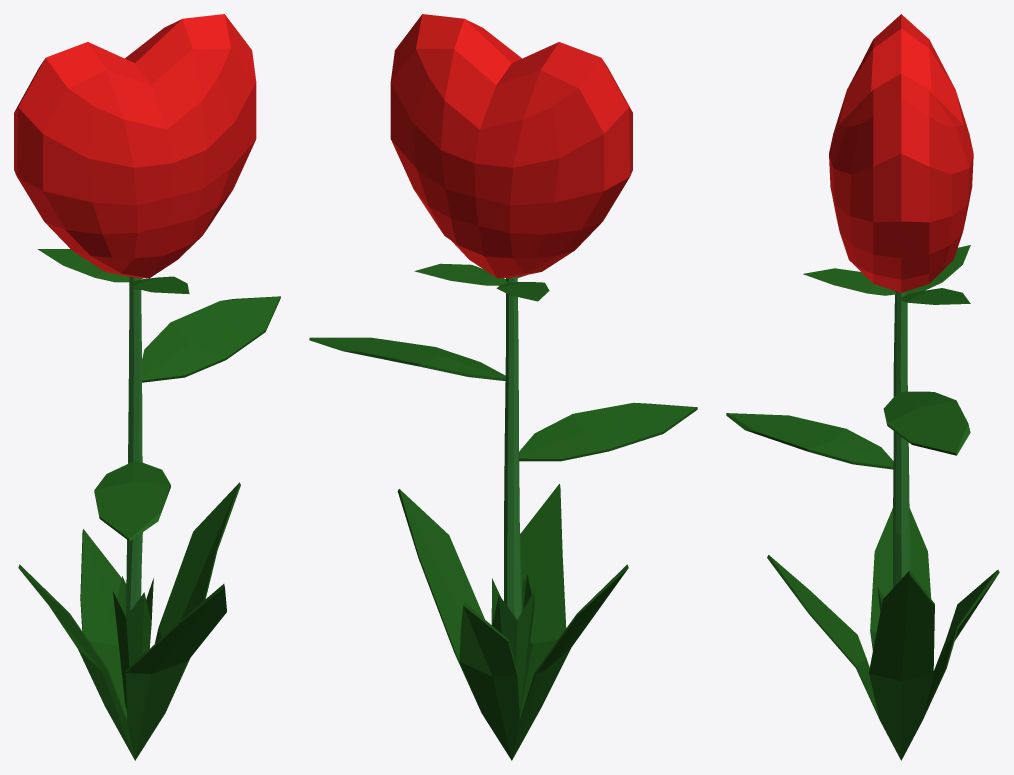
File: HeartFlower 1.fbx
3 renders of one model, left to right at view 1: azimuth 30°, elevation 25°; view 2: azimuth 150°, elevation 25°; view 3: azimuth 270°, elevation 25°, orthographic. The views are drawn at different scales.
Visible parts, largest first — view 1: HeartFlower.1; view 2: HeartFlower.1; view 3: HeartFlower.1.
Part boxes in pixels (x1,y1,x2,y2): HeartFlower.1: (14, 14, 280, 760); HeartFlower.1: (309, 14, 697, 760); HeartFlower.1: (726, 14, 999, 760).
Size of the model in its own units: 48.96 by 117 by 40.83.
